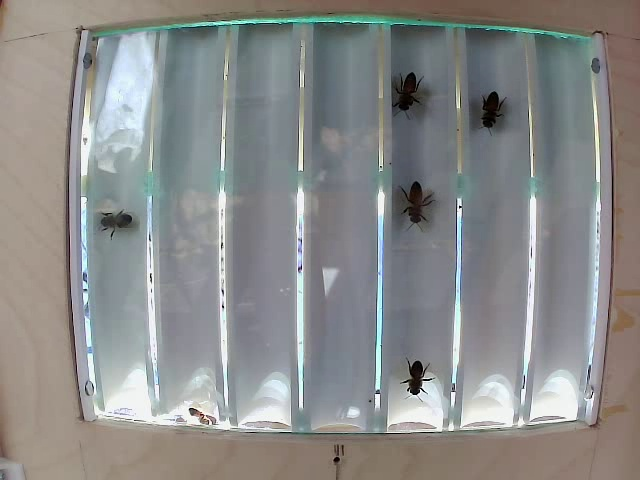bee: (391, 169, 445, 232), (395, 56, 430, 126), (474, 92, 510, 145), (109, 192, 141, 246)
